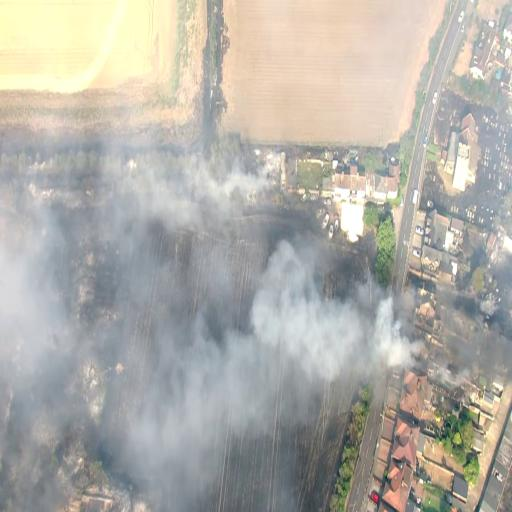smoke: (263, 262, 401, 366)
